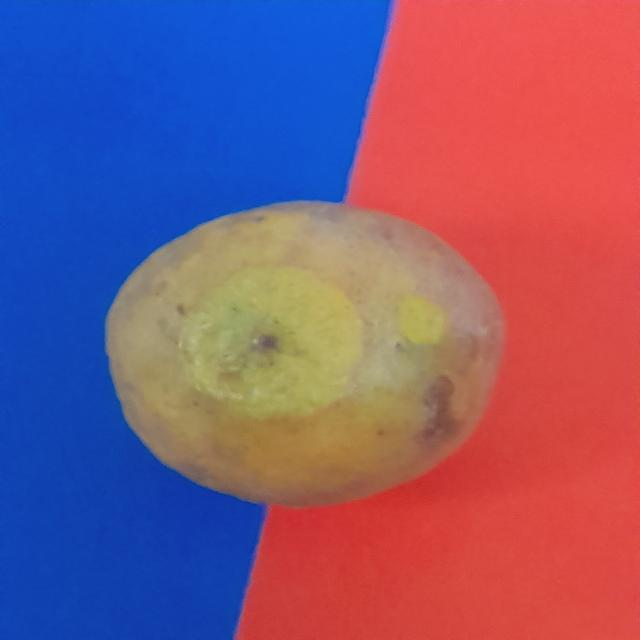thrips: (94, 208, 523, 501)
